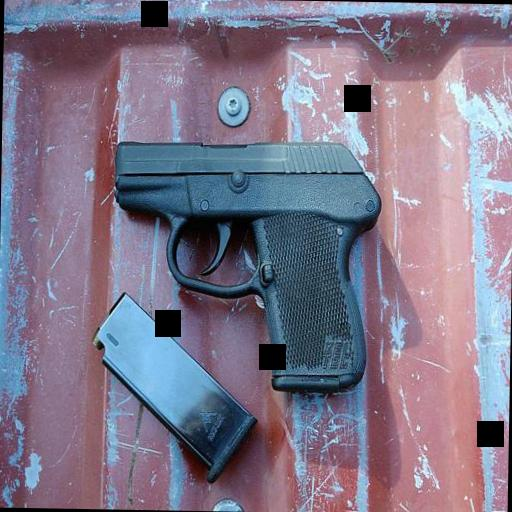Handgun: (109, 134, 382, 398)
